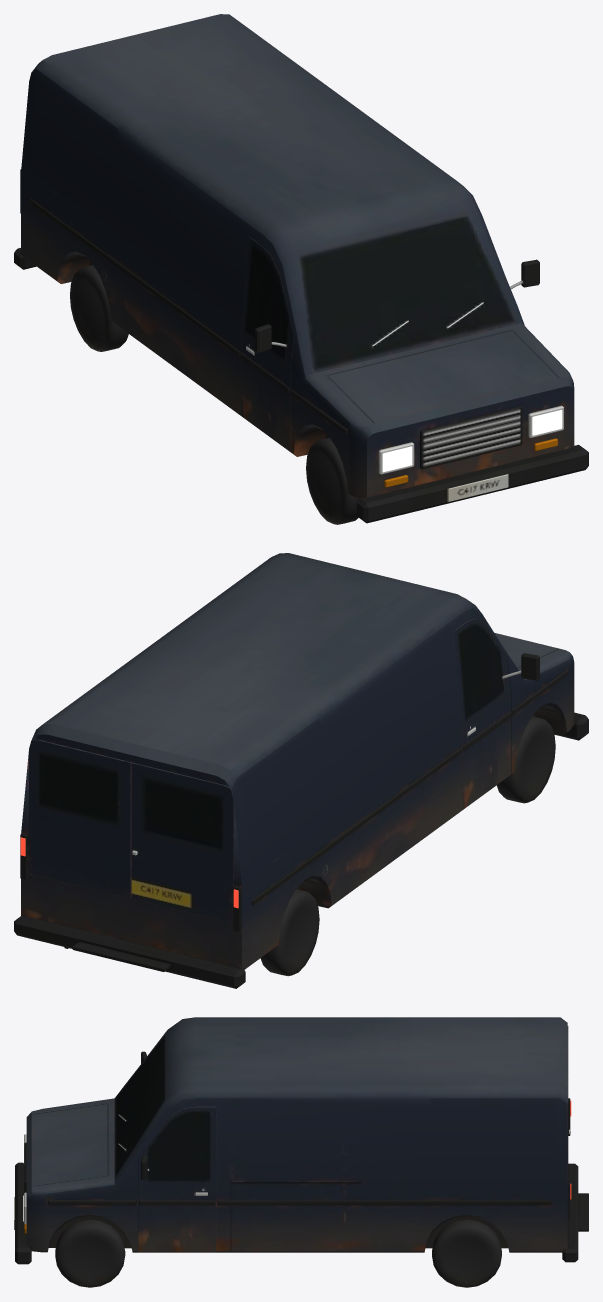
The model's file is van.glb.
3 renders of one model, top to bottom at view 1: azimuth 30°, elevation 25°; view 2: azimuth 150°, elevation 25°; view 3: azimuth 270°, elevation 25°, orthographic. The views are drawn at different scales.
Visible parts, largest first — view 1: van, cab_door_r, wheel_rr, wheel_fr; view 2: van, rear_door_l, rear_door_r, cab_door_r, wheel_rr, wheel_fr; view 3: van, cab_door_l, wheel_fl, wheel_rl.
Part boxes in pixels (box(x1,y1,x2,y2)): van: box(14, 14, 588, 523); cab_door_r: box(241, 237, 293, 451); wheel_rr: box(70, 265, 128, 351); wheel_fr: box(306, 437, 358, 524); van: box(14, 553, 588, 988); rear_door_l: box(29, 739, 131, 898); rear_door_r: box(131, 762, 233, 923); cab_door_r: box(454, 618, 539, 810); wheel_rr: box(260, 889, 319, 976); wheel_fr: box(496, 716, 555, 803); van: box(14, 1017, 588, 1264); cab_door_l: box(138, 1106, 216, 1252); wheel_fl: box(55, 1219, 125, 1287); wheel_rl: box(432, 1219, 501, 1287).
Bounding box in the file's own units: 2.46 × 2.05 × 5.42.
Materials: 3 (1 with a texture image).
